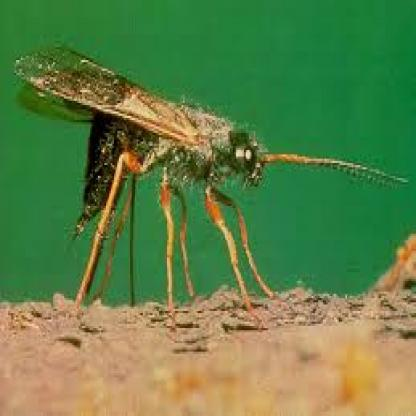sawfly: (8, 35, 408, 325)
